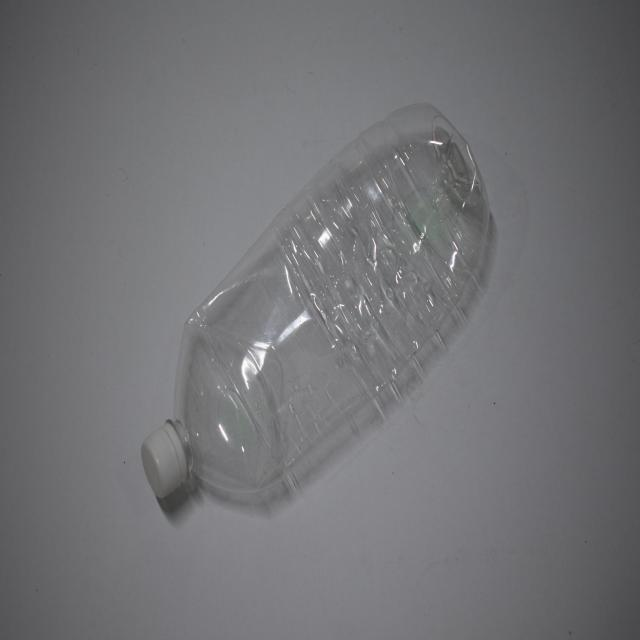empty: (142, 104, 490, 501)
